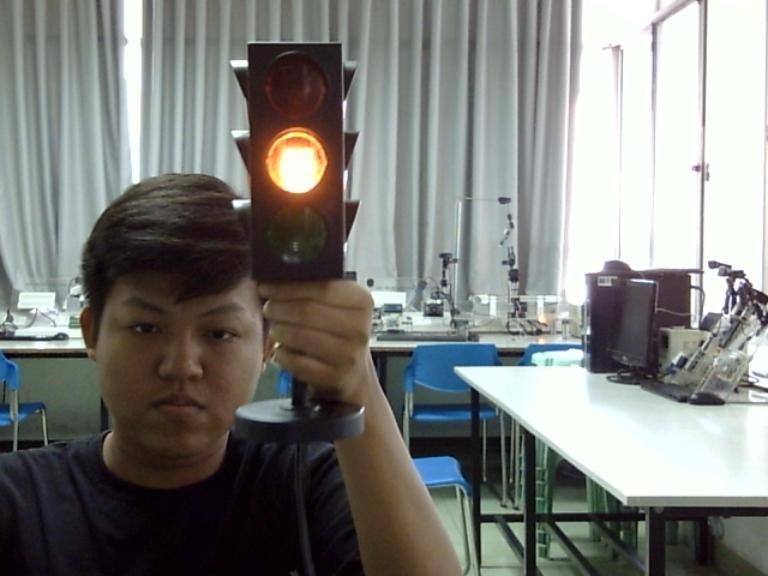yellow: (255, 121, 343, 200)
